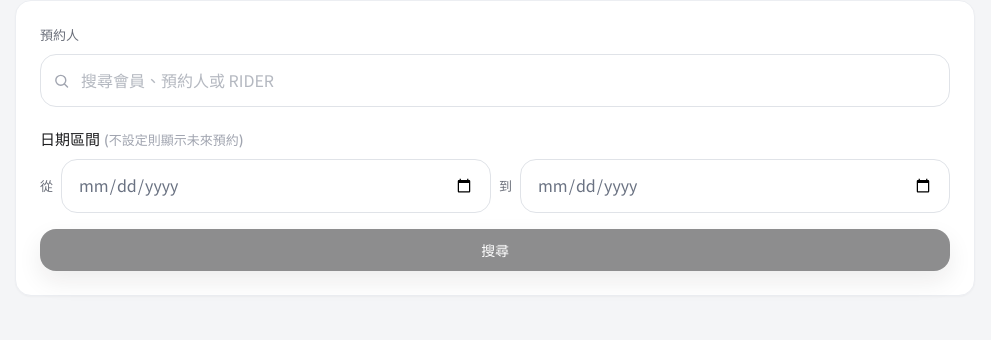
Test: SearchBookings › 會員建議優先顯示，LINE 建檔人物接續顯示
Type "小明" into the field with placeholder "搜尋會員、預約人或 RIDER". click: (495, 81)
box: [40,54,950,107]
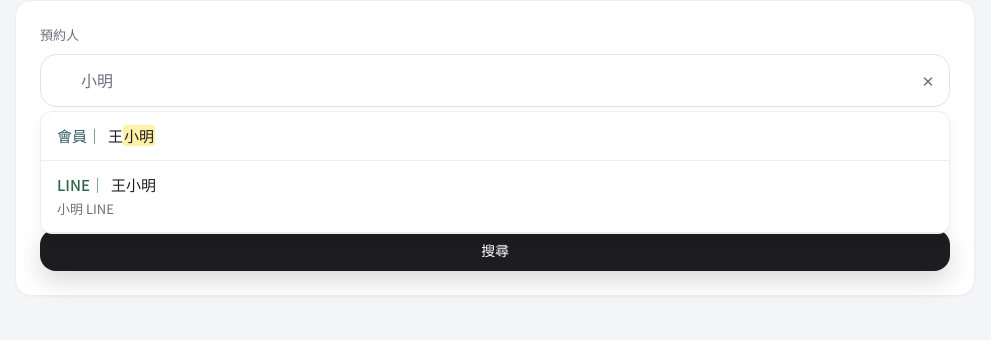
Now the text "會員｜" is shown, box [57,125,102,146]
Now the text "LINE｜" is shown, box [57,174,105,195]
Click the element with test id "member-suggestion-m1". click: (495, 137)
box: [41,112,949,161]
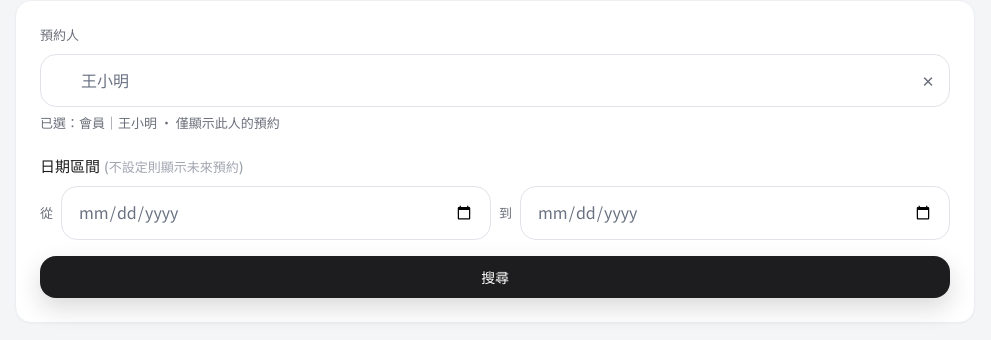
Now the text "已選：會員｜王小明 · 僅顯示此人的預約" is shown, box [40,113,280,132]
